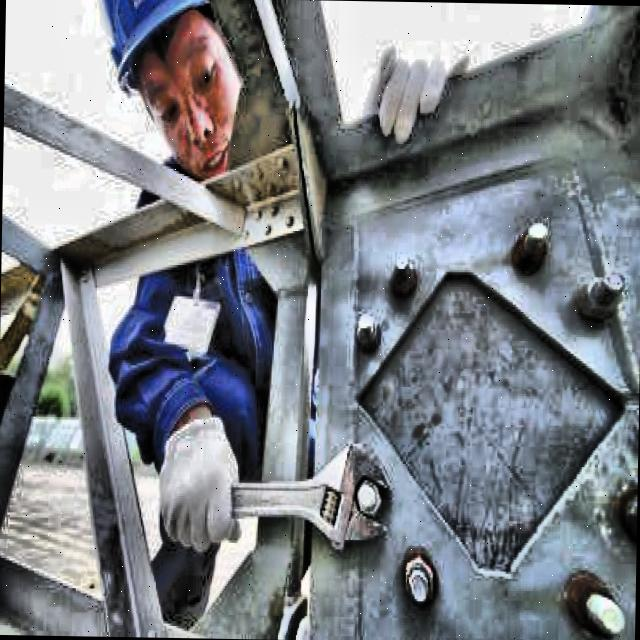helmet: (88, 0, 253, 191)
